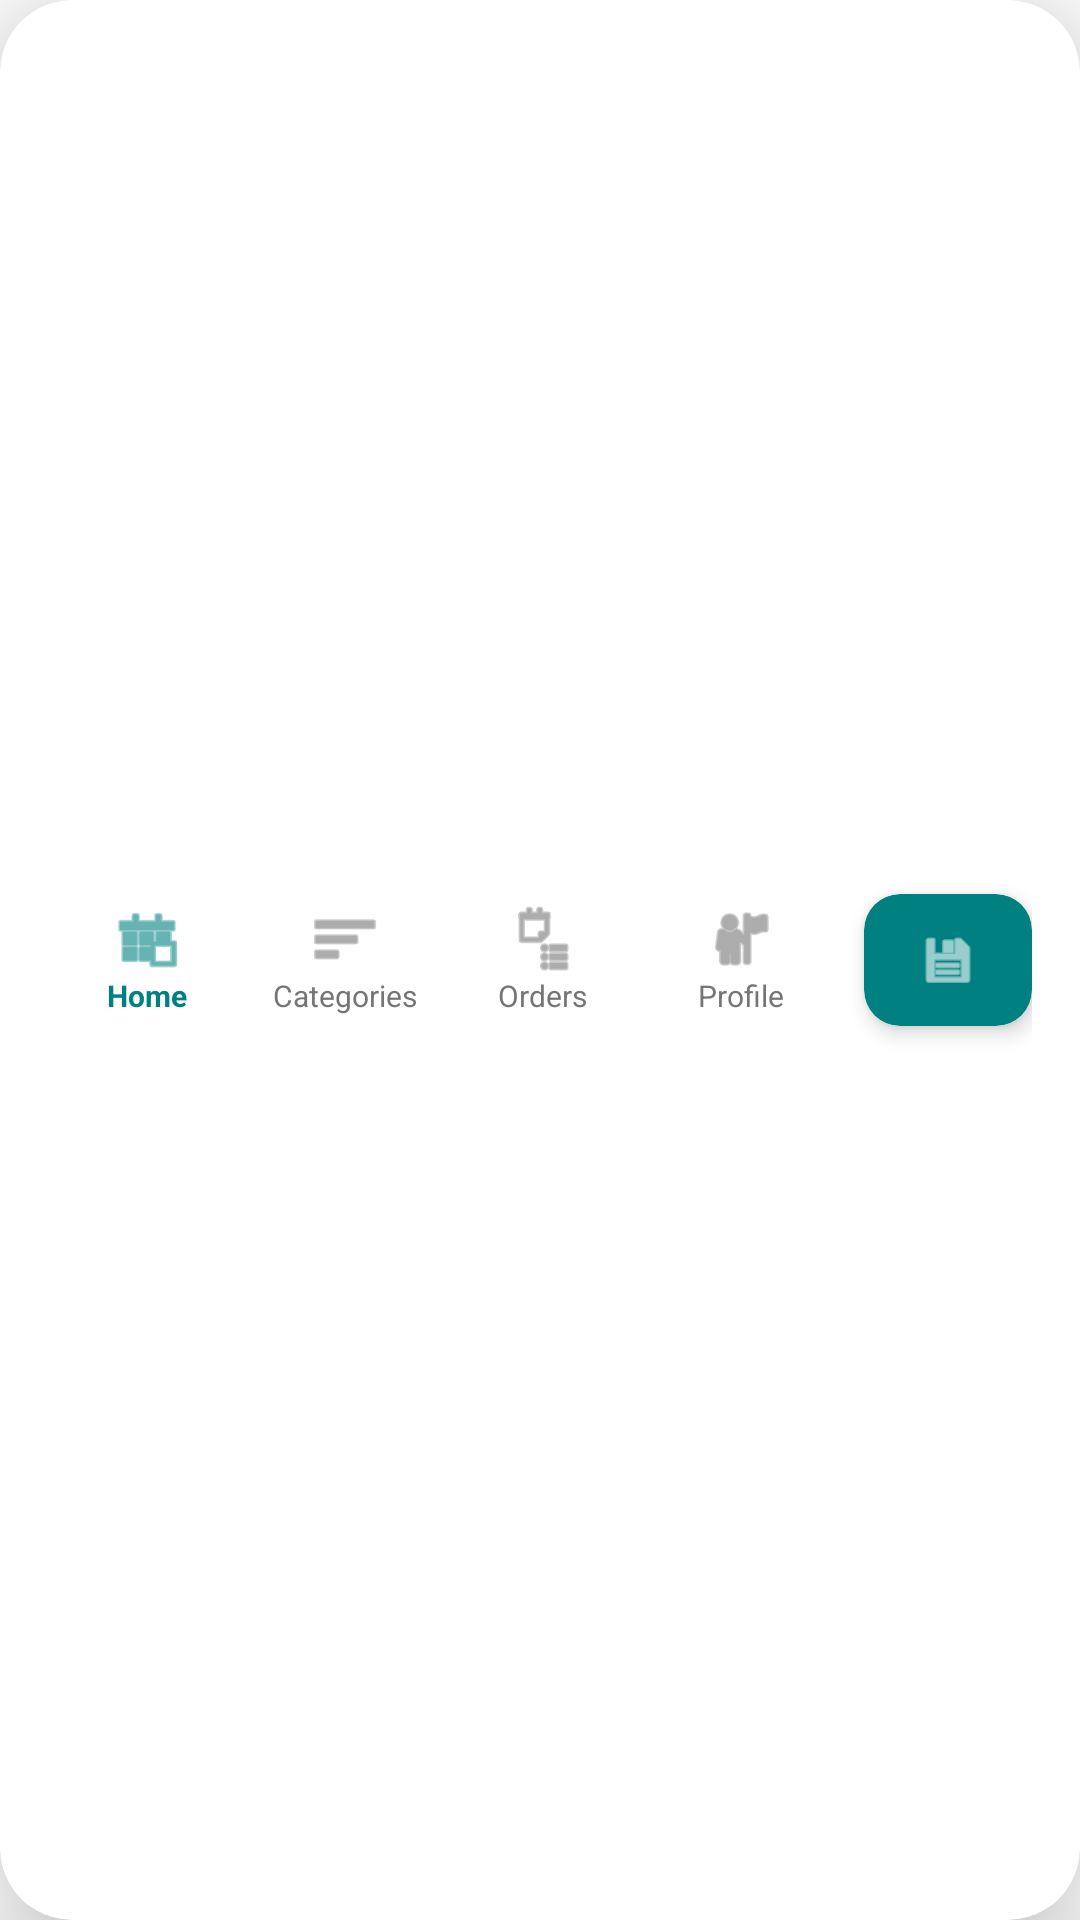

Named icons in this screenshot (1080x1920) and their centers, (x=x, y=y):
agenda: (x=543, y=939)
myplaces: (x=742, y=939)
save: (x=948, y=960)
sort by size: (x=345, y=939)
today: (x=147, y=940)
